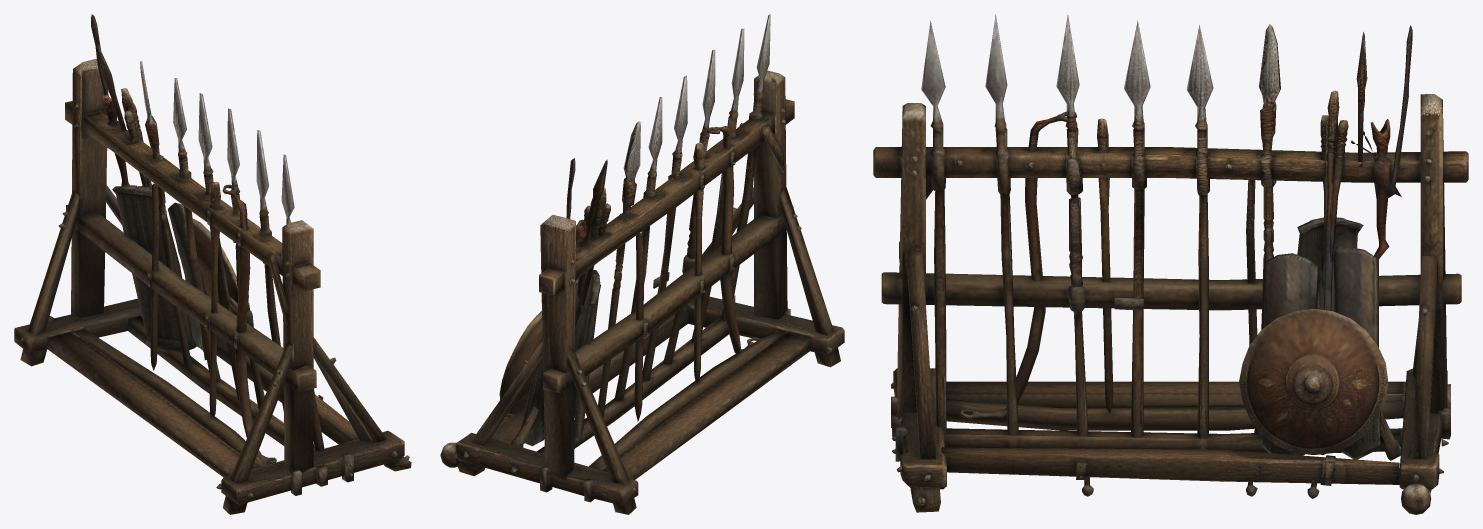
The model's file is medieval+spear+rack+3d+model.fbx.
3 views of the same model, side by side, from view 1: azimuth 30°, elevation 25°; view 2: azimuth 150°, elevation 25°; view 3: azimuth 270°, elevation 25° (orthographic). The views are drawn at different scales.
Visible parts, largest first — view 1: meshes[0]; view 2: meshes[0]; view 3: meshes[0].
Boxes of the visible parts, x1,y1,x2,y2 form: meshes[0]: [14, 14, 411, 514]; meshes[0]: [440, 14, 844, 514]; meshes[0]: [873, 14, 1468, 514].
Size of the model in its own units: 0.4707 by 0.7871 by 0.998.
Materials: 1 (1 with a texture image).
